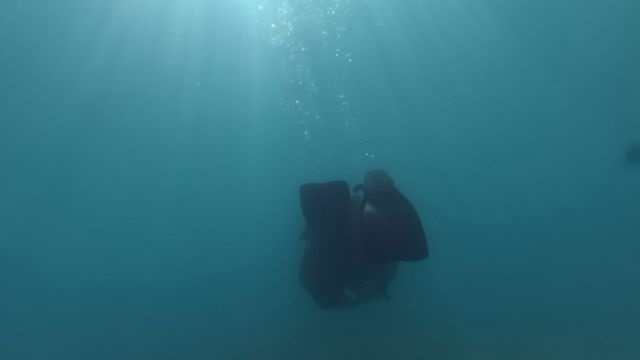Diver: (287, 160, 435, 317)
